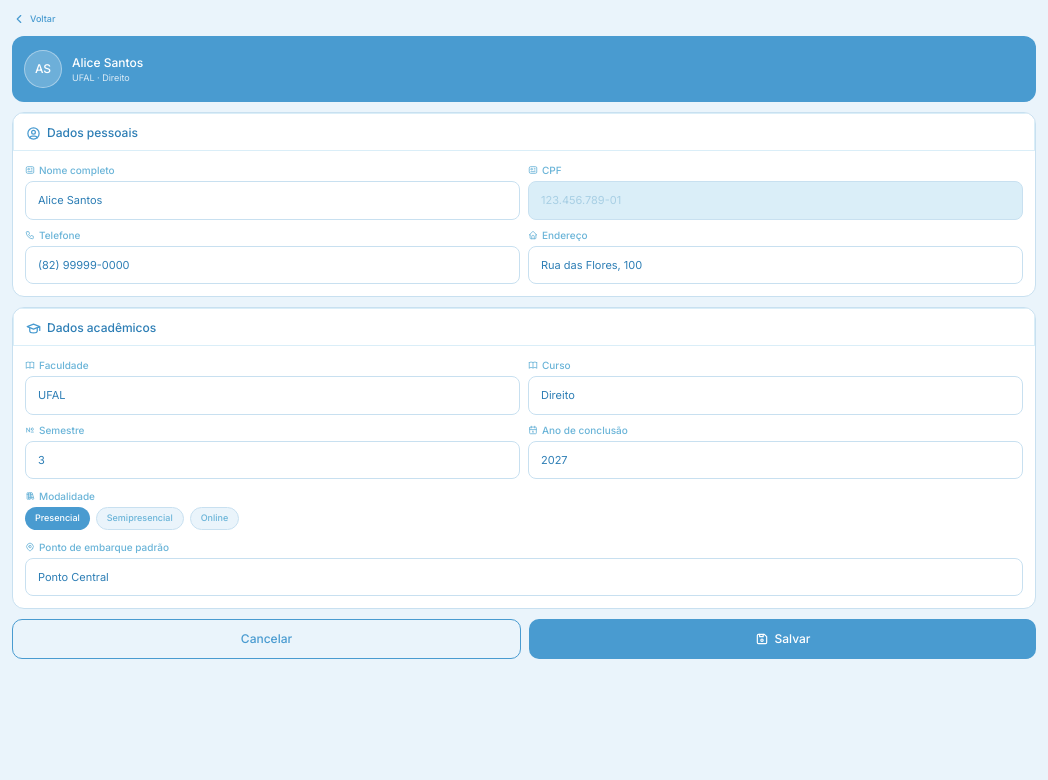
EdicaoAlunoPage — salvar › exibe mensagem de erro quando salvar falha
What coordinates should you click on to do the following:
click the button "Salvar"
I would click on:
 (782, 639)
Its box is [529,619,1036,659].
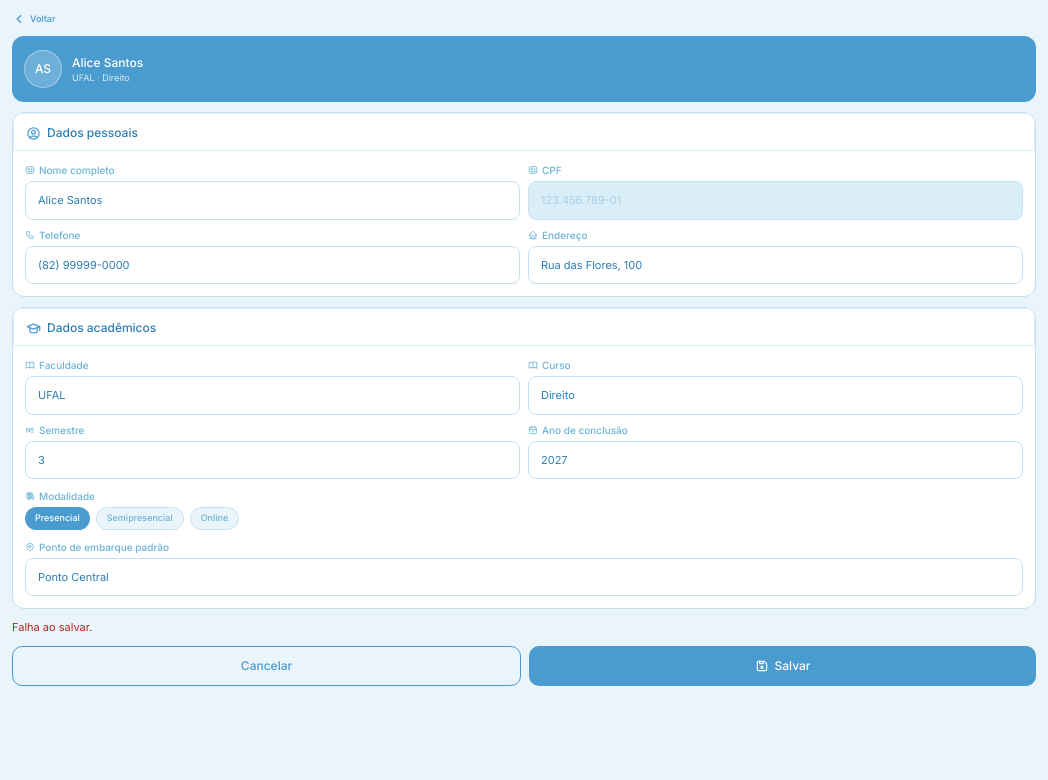
expect the text "Falha ao salvar." is shown: met, box [12,620,92,634]
